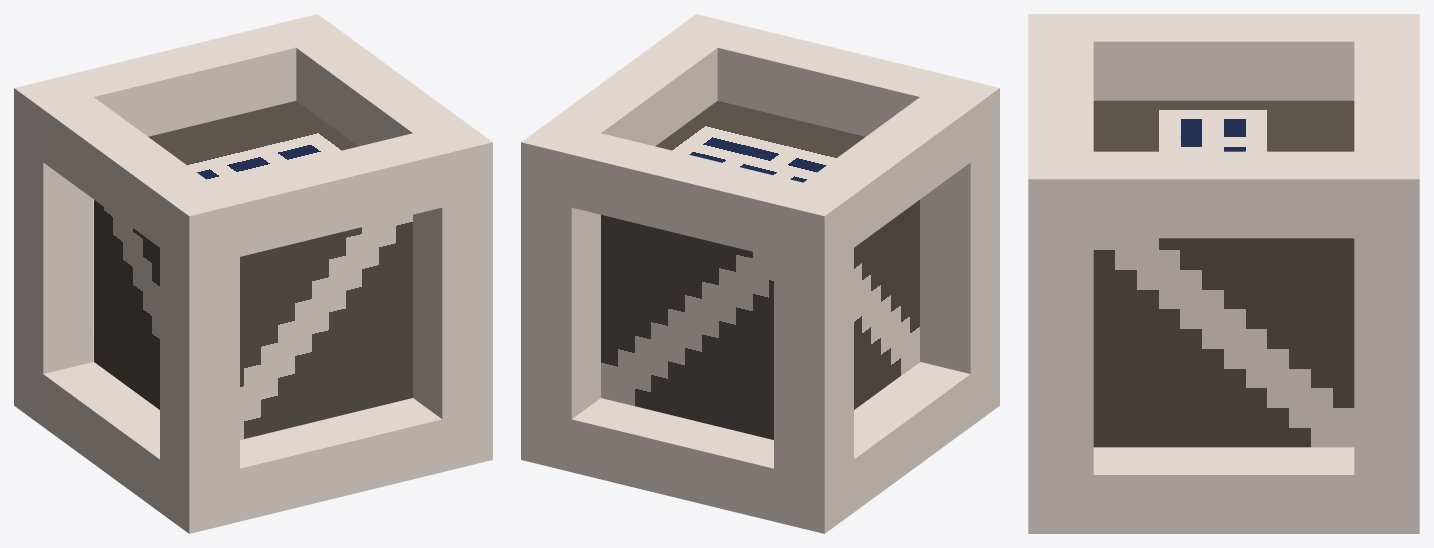
The model's file is crate.gltf.
3 renders of one model, left to right at view 1: azimuth 30°, elevation 25°; view 2: azimuth 150°, elevation 25°; view 3: azimuth 270°, elevation 25°, orthographic. The views are drawn at different scales.
Visible parts, largest first — view 1: crate; view 2: crate; view 3: crate.
Boxes of the visible parts, x1,y1,x2,y2 form: crate: (14,14,492,533); crate: (521,14,999,533); crate: (1028,14,1419,533).
Size of the model in its own units: 1.5 by 1.5 by 1.5.
Materials: 1 (1 with a texture image).
